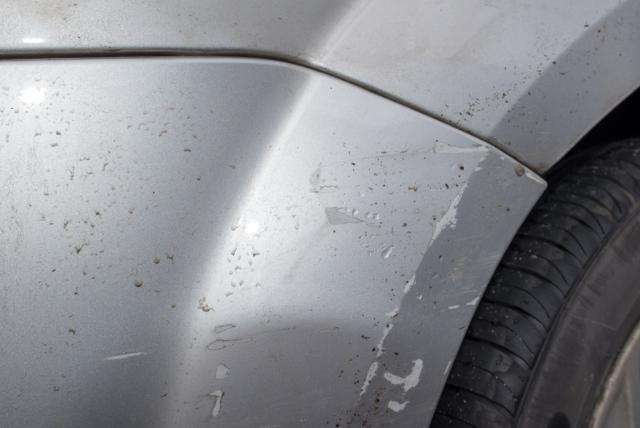Bumper: (9, 63, 523, 428)
